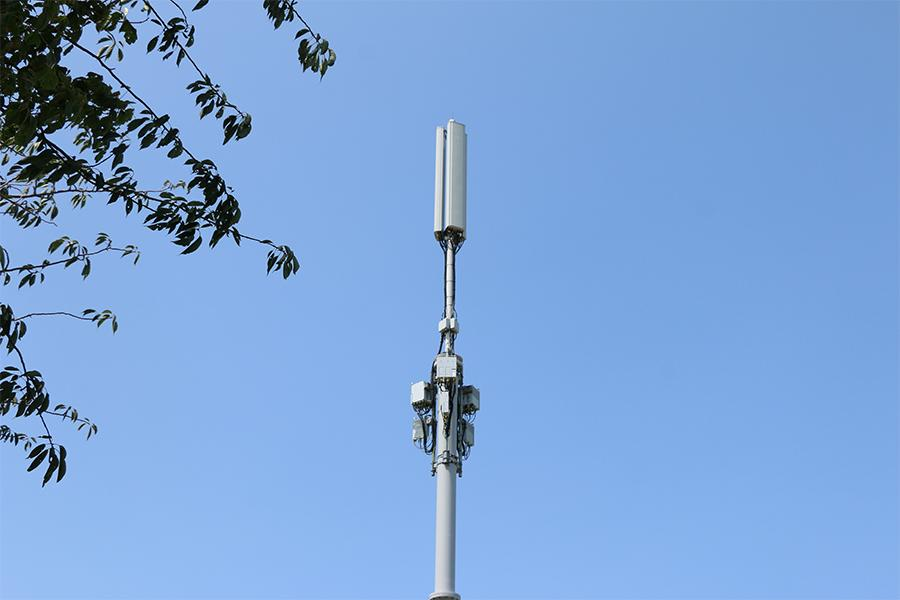antenna: (424, 116, 477, 242)
